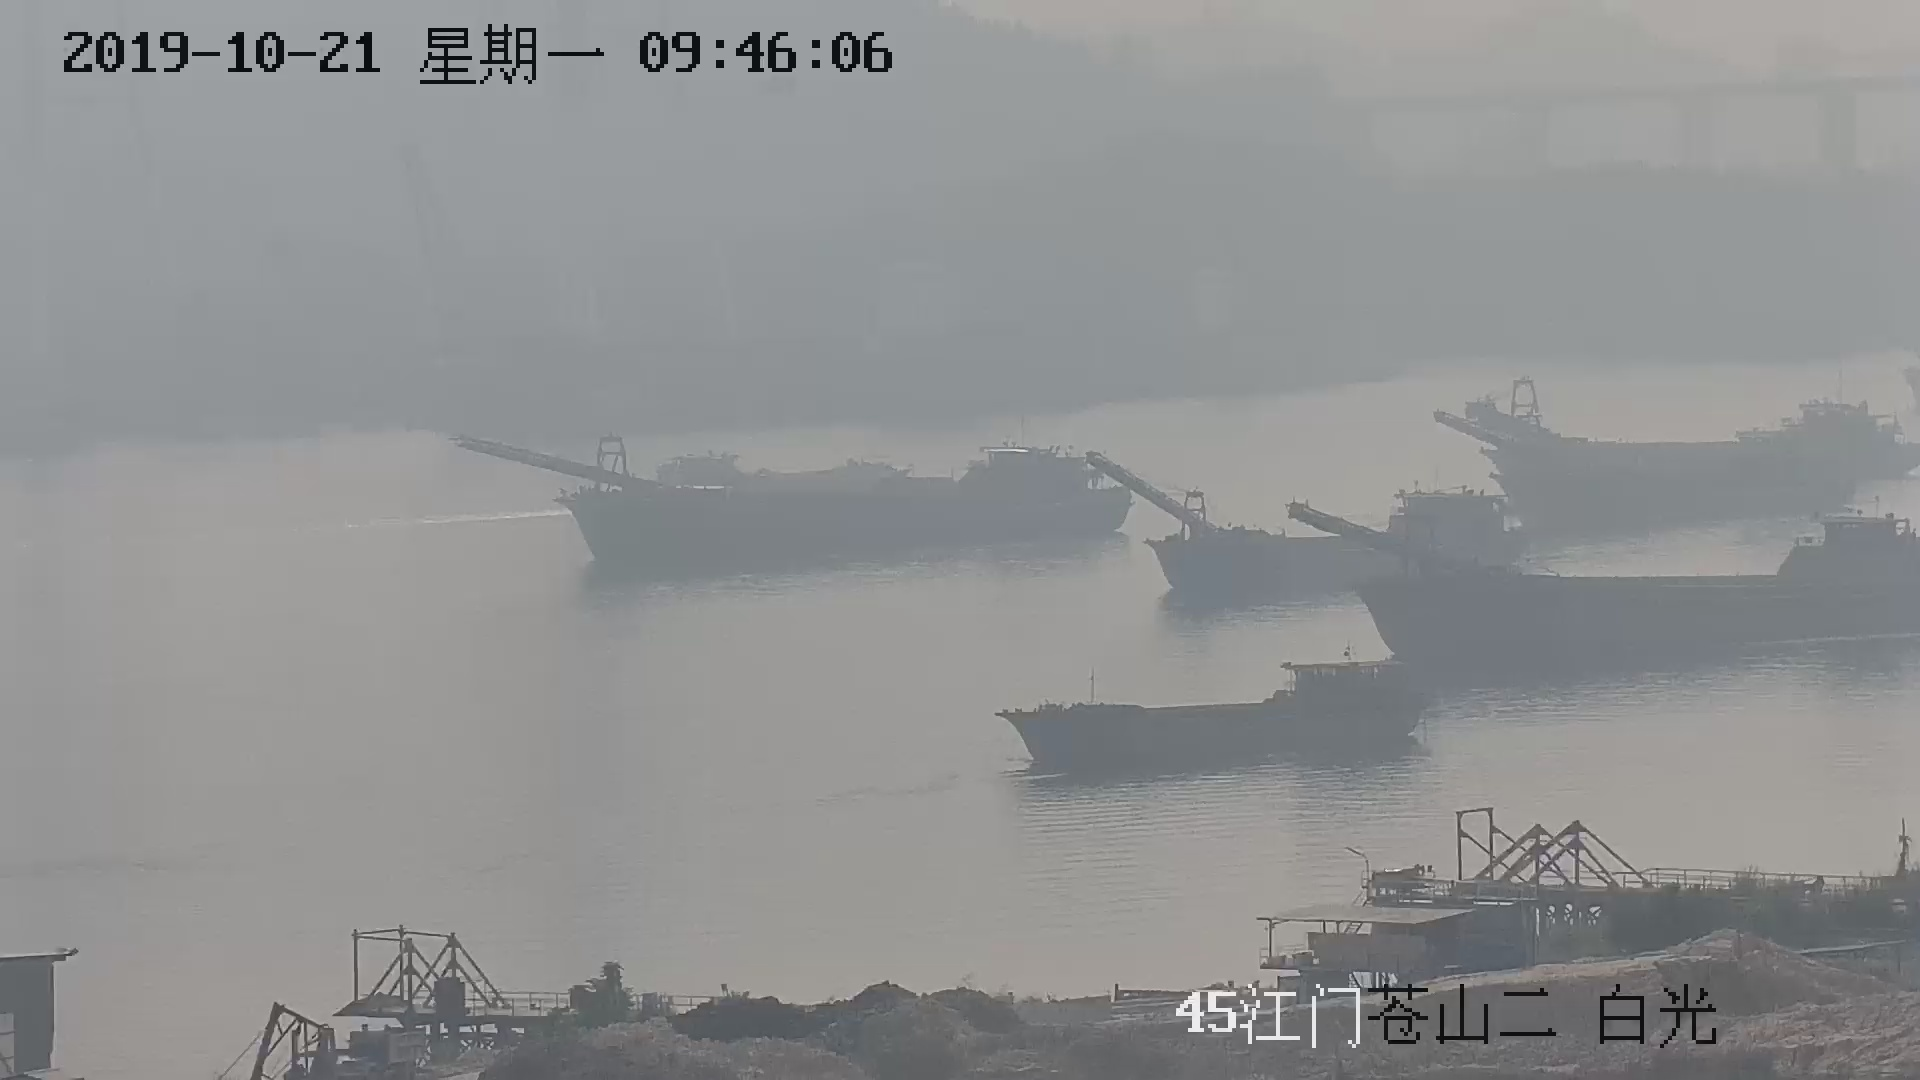ship: (1294, 506, 1920, 665), (454, 434, 1134, 559), (1432, 377, 1920, 524), (1089, 465, 1567, 596), (1001, 641, 1424, 764)
